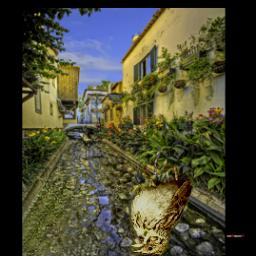Sparrow: (128, 164, 192, 256)
